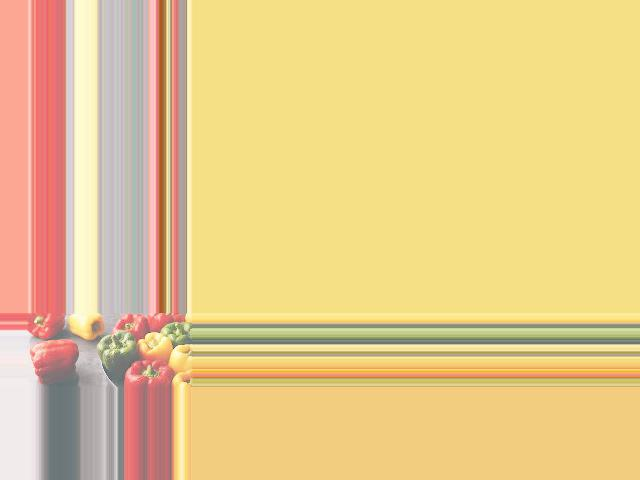bell_pepper: (26, 315, 65, 338)
